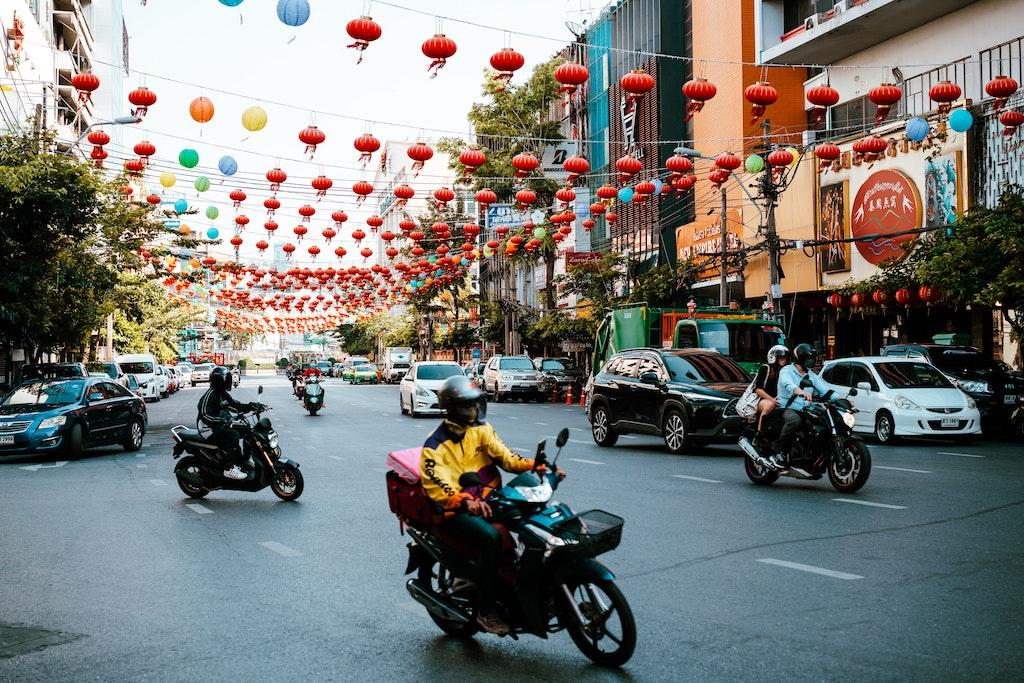helmet: (437, 374, 487, 426), (792, 342, 819, 370), (208, 365, 233, 393), (767, 343, 791, 369)
